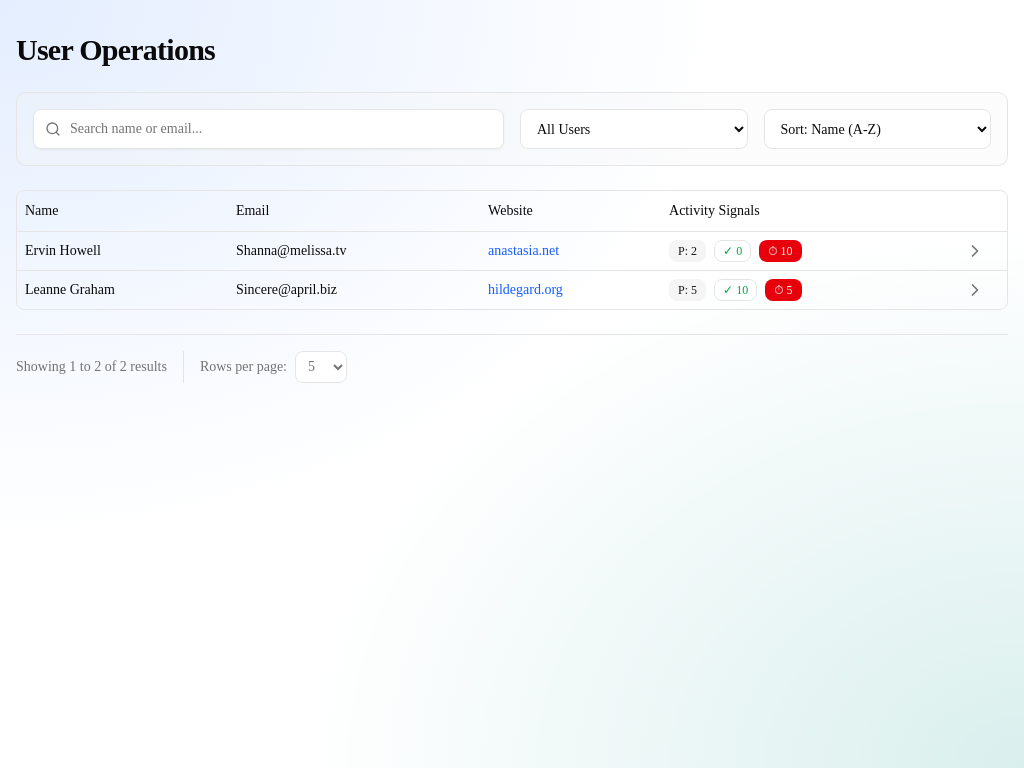
UsersClient › filters users via search input
Type "ervin" into the field with placeholder "Search name or email..." at (268, 129), box [33,109,504,149]
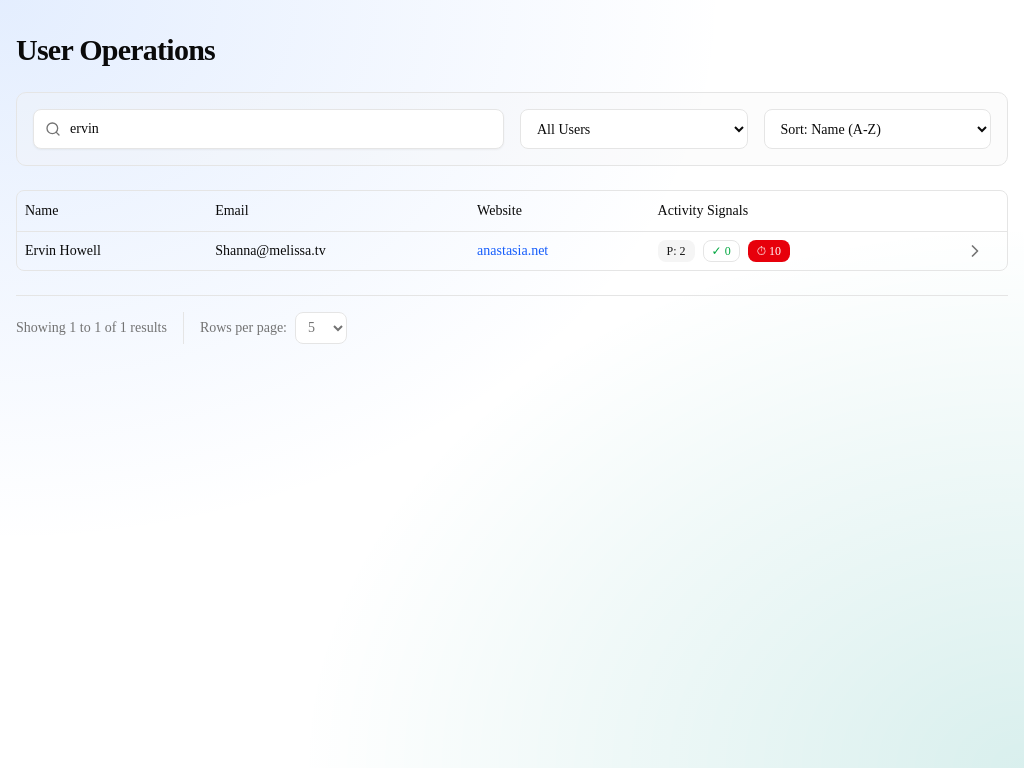
Expected: the text "Ervin Howell" is shown, [25,242,101,258]
Now the text "Leanne Graham" is gone
